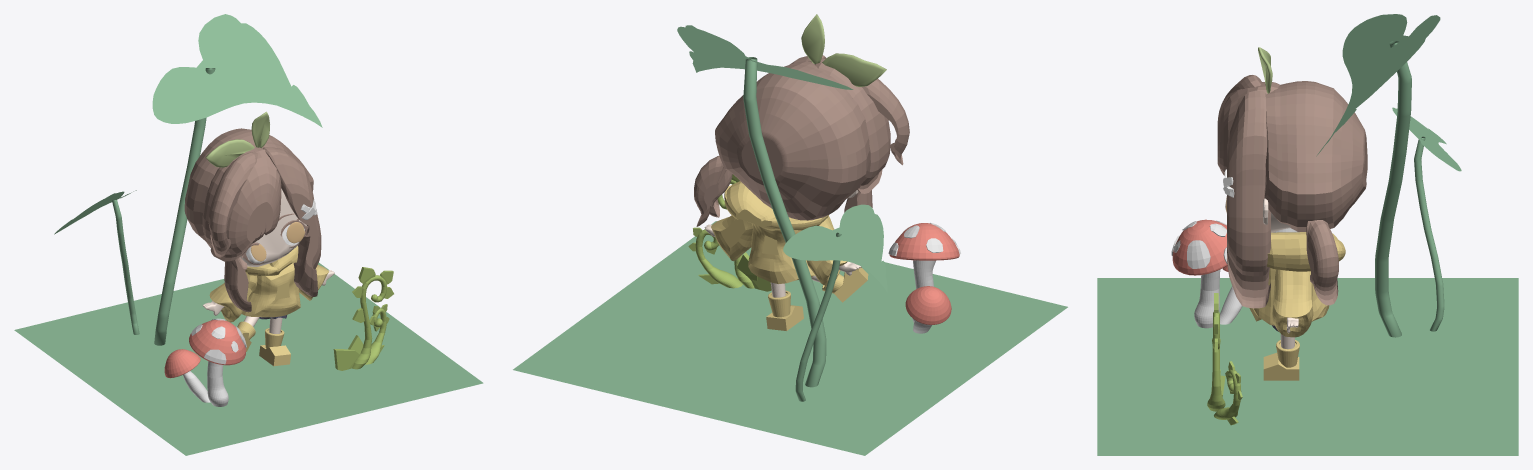
File: Bamboo.glb
3 views of the same model, side by side, from view 1: azimuth 30°, elevation 25°; view 2: azimuth 150°, elevation 25°; view 3: azimuth 270°, elevation 25° (orthographic). The views are drawn at different scales.
Visible parts, largest first — view 1: 平面.011, 平面.009, 左刘海, 右侧发, 后脑勺, 柱体.001, 左刘海碎发, 平面.002, 球体.003, 脸模, 左侧发, 柱体.005 (+9 smaller); view 2: 平面.011, 后脑勺, 平面.010, 柱体.001, 平面.009, 左刘海, 平面.002, 平面.001, 马尾, 球体.003, 左刘海碎发, 球体.004 (+9 smaller); view 3: 平面.011, 后脑勺, 右侧发, 平面.009, 柱体.001, 平面.004, 马尾, 球体.003, 平面.001, 柱体.002, 左刘海, 柱体.003 (+8 smaller).
Boxes of the visible parts, x1,y1,x2,y2 form: 平面.011: (14, 262, 483, 455); 平面.009: (152, 14, 322, 127); 左刘海: (202, 146, 281, 261); 右侧发: (262, 147, 321, 296); 后脑勺: (184, 128, 313, 247); 柱体.001: (154, 68, 215, 345); 左刘海碎发: (208, 151, 258, 257); 平面.002: (241, 263, 300, 317); 球体.003: (189, 320, 245, 365); 脸模: (240, 188, 306, 266); 左侧发: (224, 257, 251, 312); 柱体.005: (352, 275, 386, 369); 平面.011: (513, 221, 1067, 455); 后脑勺: (715, 61, 869, 220); 平面.010: (783, 204, 887, 292); 柱体.001: (743, 57, 826, 387); 平面.009: (677, 25, 853, 89); 左刘海: (814, 58, 890, 193); 平面.002: (748, 224, 815, 283); 平面.001: (724, 181, 828, 230); 马尾: (694, 156, 732, 226); 球体.003: (889, 223, 959, 260); 左刘海碎发: (861, 79, 909, 165); 球体.004: (905, 286, 951, 324); 平面.011: (1097, 278, 1518, 455); 后脑勺: (1264, 81, 1367, 231); 右侧发: (1227, 90, 1270, 308); 平面.009: (1316, 14, 1440, 156); 柱体.001: (1375, 41, 1411, 337); 平面.004: (1272, 269, 1313, 337); 马尾: (1306, 220, 1338, 305); 球体.003: (1172, 219, 1227, 275); 平面.001: (1267, 232, 1345, 271); 柱体.002: (1414, 136, 1444, 331); 左刘海: (1217, 82, 1279, 175); 柱体.003: (1194, 270, 1220, 328).
Bounding box in the file's own units: 4.28 × 4.1 × 4.28.
